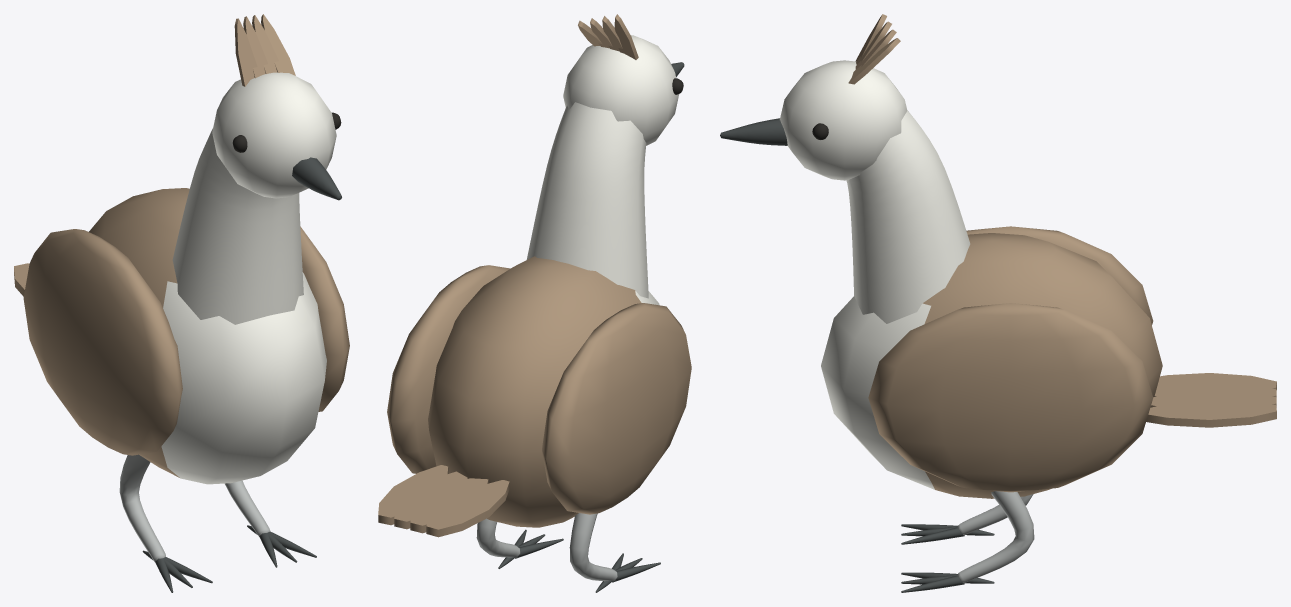
File: birds-and-flying-creatures-great-crested-grebe-82ba9155__20607.glb
The picture shows the model from 3 angles, left to right: view 1: azimuth 30°, elevation 25°; view 2: azimuth 150°, elevation 25°; view 3: azimuth 270°, elevation 25°; orthographic projection. The views are drawn at different scales.
Parts seen in each view (by area): view 1: great-crested-grebe; view 2: great-crested-grebe; view 3: great-crested-grebe.
Boxes of the visible parts, <box> form: great-crested-grebe: <box>14,14,349,592</box>; great-crested-grebe: <box>378,14,691,592</box>; great-crested-grebe: <box>720,14,1276,592</box>.
Bounding box in the file's own units: 0.2296 × 0.5506 × 0.5159.
